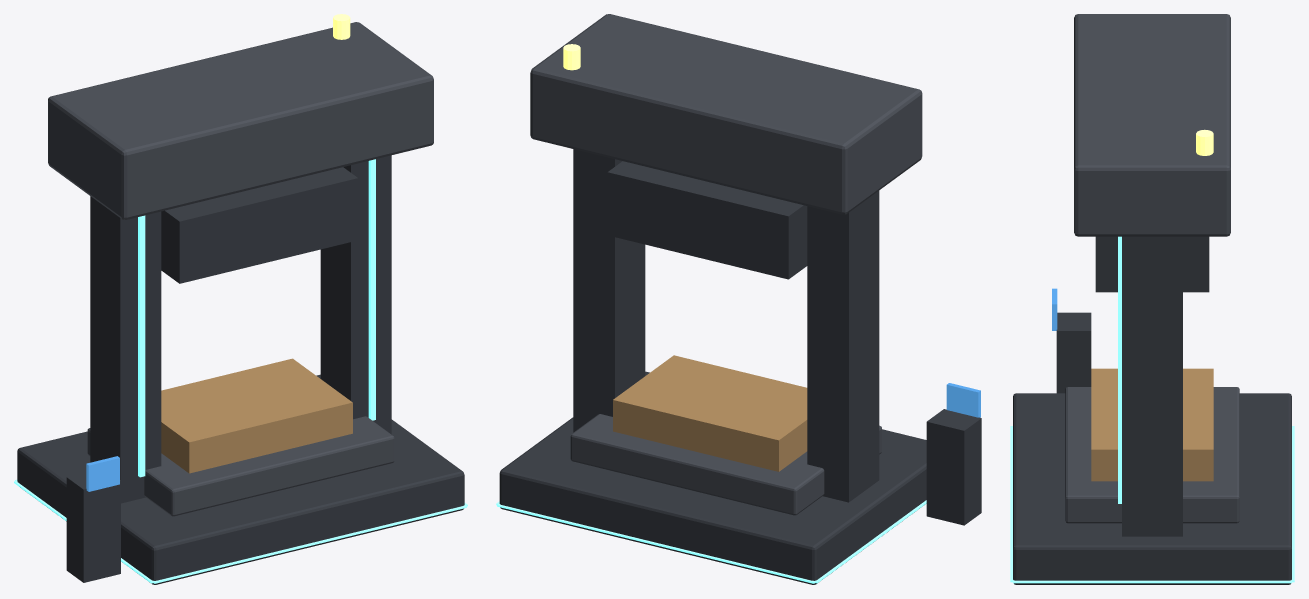
Rendered from press.glb.
3 renders of one model, left to right at view 1: azimuth 30°, elevation 25°; view 2: azimuth 150°, elevation 25°; view 3: azimuth 270°, elevation 25°, orthographic.
Parts seen in each view (by area): view 1: part_crown, part_base, part_upright_-1, part_die, part_ram, part_upright_1, part_bed, part_panel_stand, part_strip_-1, part_strip_1, part_outline_x0, part_panel_screen; view 2: part_crown, part_base, part_upright_-1, part_die, part_ram, part_upright_1, part_bed, part_panel_stand, part_outline_x1, part_panel_screen; view 3: part_crown, part_base, part_upright_1, part_bed, part_die, part_ram, part_panel_stand, part_outline_z1, part_strip_1, part_outline_x0, part_outline_x1, part_beacon.
Boxes of the visible parts, x1=… form: part_crown: x1=48, y1=22, x2=433, y2=219; part_base: x1=17, y1=374, x2=464, y2=584; part_upright_-1: x1=90, y1=196, x2=161, y2=503; part_die: x1=161, y1=358, x2=352, y2=473; part_ram: x1=161, y1=167, x2=358, y2=283; part_upright_1: x1=320, y1=155, x2=391, y2=434; part_bed: x1=87, y1=416, x2=394, y2=516; part_panel_stand: x1=66, y1=472, x2=120, y2=582; part_strip_-1: x1=138, y1=215, x2=145, y2=477; part_strip_1: x1=368, y1=159, x2=375, y2=420; part_outline_x0: x1=153, y1=505, x2=466, y2=583; part_panel_screen: x1=86, y1=456, x2=119, y2=491; part_crown: x1=530, y1=14, x2=922, y2=214; part_base: x1=499, y1=371, x2=926, y2=584; part_upright_-1: x1=807, y1=190, x2=879, y2=502; part_die: x1=613, y1=355, x2=807, y2=471; part_ram: x1=607, y1=161, x2=807, y2=279; part_upright_1: x1=573, y1=149, x2=645, y2=432; part_bed: x1=570, y1=414, x2=881, y2=515; part_panel_stand: x1=926, y1=409, x2=981, y2=525; part_outline_x1: x1=497, y1=504, x2=814, y2=583; part_panel_screen: x1=946, y1=383, x2=980, y2=417; part_crown: x1=1074, y1=14, x2=1230, y2=236; part_base: x1=1013, y1=393, x2=1291, y2=584; part_upright_1: x1=1122, y1=236, x2=1182, y2=536; part_bed: x1=1065, y1=387, x2=1239, y2=523; part_die: x1=1091, y1=368, x2=1213, y2=481; part_ram: x1=1095, y1=236, x2=1209, y2=292; part_panel_stand: x1=1056, y1=312, x2=1091, y2=393; part_outline_z1: x1=1013, y1=580, x2=1291, y2=583; part_strip_1: x1=1118, y1=236, x2=1121, y2=503; part_outline_x0: x1=1010, y1=426, x2=1014, y2=582; part_outline_x1: x1=1290, y1=426, x2=1294, y2=582; part_beacon: x1=1196, y1=129, x2=1213, y2=155.
Size of the model in its own units: 4.88 by 5.54 by 3.26.
